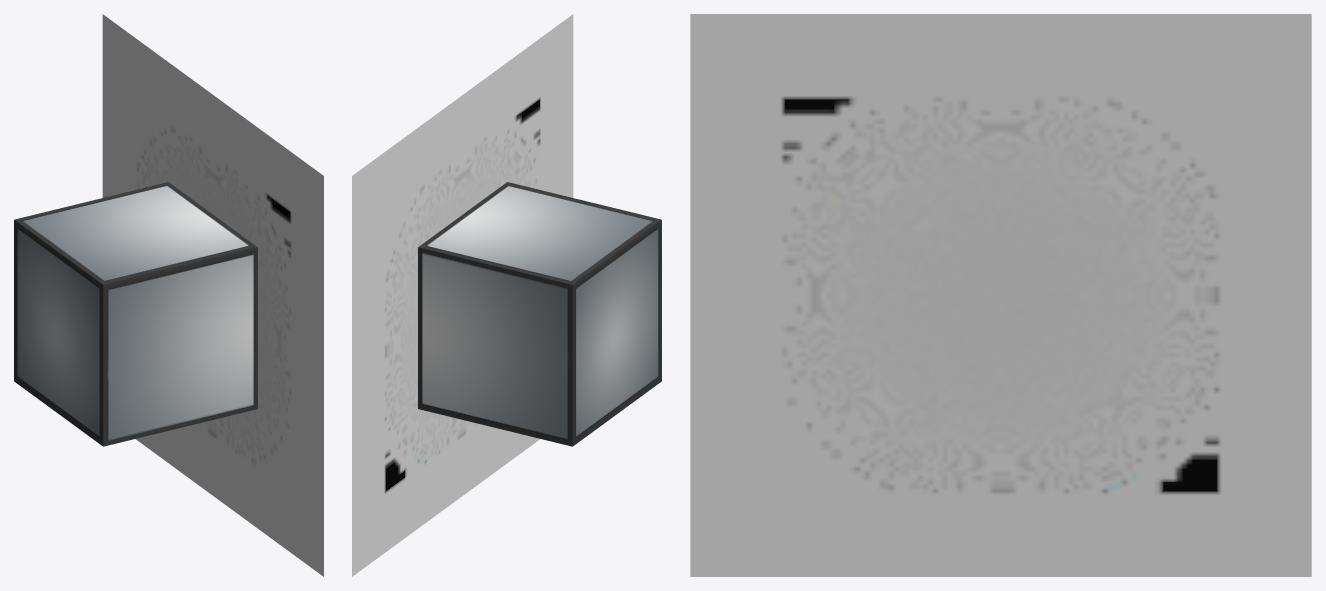
Rendered from CubeLight.fbx.
3 renders of one model, left to right at view 1: azimuth 30°, elevation 25°; view 2: azimuth 150°, elevation 25°; view 3: azimuth 270°, elevation 25°, orthographic. The views are drawn at different scales.
Visible parts, largest first — view 1: LightPlane, CubeLight_LitSurface, CubeLight; view 2: LightPlane, CubeLight_LitSurface, CubeLight; view 3: LightPlane.
Part boxes in pixels (x1,y1,x2,y2): LightPlane: [102, 14, 323, 576]; CubeLight_LitSurface: [17, 185, 253, 440]; CubeLight: [14, 182, 257, 446]; LightPlane: [352, 14, 573, 576]; CubeLight_LitSurface: [422, 186, 657, 440]; CubeLight: [418, 182, 661, 446]; LightPlane: [690, 14, 1311, 576].
Size of the model in its own units: 1 by 2.48 by 2.48.
2 materials, 2 textured.
